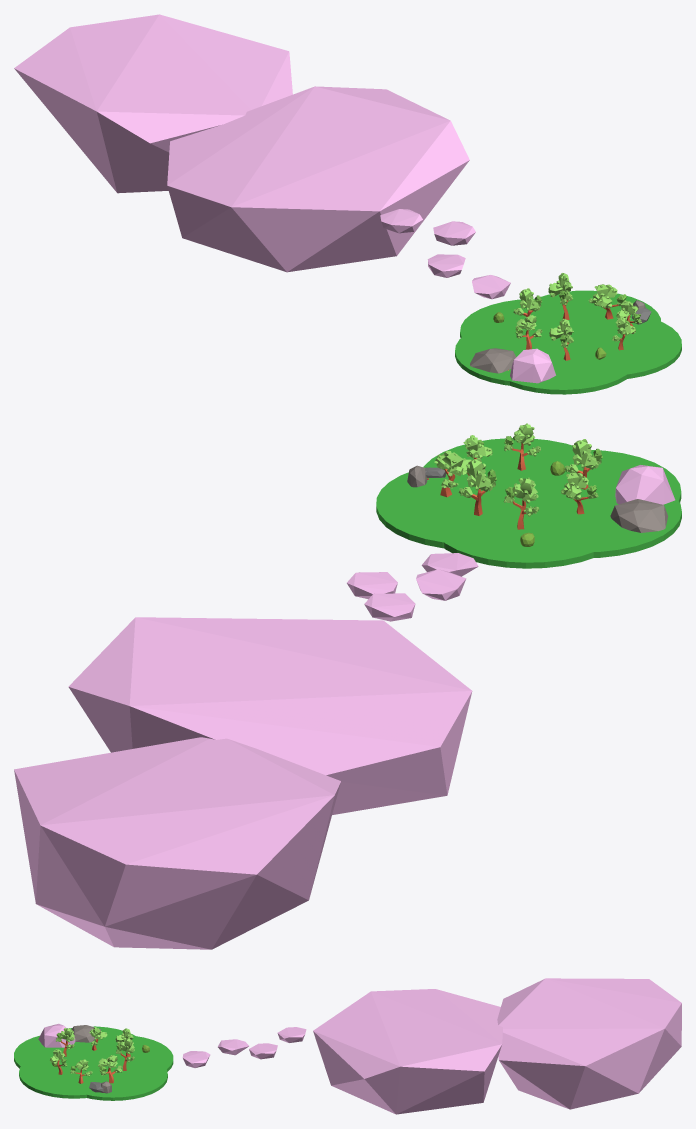
3 renders of one model, top to bottom at view 1: azimuth 30°, elevation 25°; view 2: azimuth 150°, elevation 25°; view 3: azimuth 270°, elevation 25°, orthographic. The views are drawn at different scales.
Visible parts, largest first — view 1: Rock4.008, Rock4.009, Cylindre.001, Cylindre, Cylindre.005, Cylindre.003, Cylindre.004, Cylindre.002, Rock4.003, Rock4.002, Rock4.004, Rock4.007 (+4 smaller); view 2: Rock4.009, Rock4.008, Cylindre, Cylindre.004, Cylindre.003, Cylindre.005, Cylindre.002, Cylindre.001, Rock4.003, Rock4.002, Rock4.007, Rock4.006 (+6 smaller); view 3: Rock4.009, Rock4.008, Cylindre.004, Cylindre.003, Cylindre.005, Cylindre.002, Cylindre, Cylindre.001, Rock4.003, Rock4.005, Rock4.004, Tree.002 (+7 smaller).
Part boxes in pixels (x1,y1,x2,y2): Rock4.008: (167, 86, 469, 272); Rock4.009: (14, 14, 292, 193); Cylindre.001: (490, 326, 637, 394); Cylindre: (502, 304, 649, 368); Cylindre.005: (532, 311, 681, 378); Cylindre.003: (460, 298, 605, 361); Cylindre.004: (513, 290, 661, 352); Cylindre.002: (455, 318, 597, 385); Rock4.003: (510, 348, 555, 383); Rock4.002: (470, 348, 516, 373); Rock4.004: (433, 221, 475, 245); Rock4.007: (380, 209, 422, 233); Rock4.009: (14, 737, 340, 949); Rock4.008: (68, 617, 472, 814); Cylindre: (420, 458, 616, 540); Cylindre.004: (376, 461, 571, 548); Cylindre.003: (430, 479, 624, 568); Cylindre.005: (421, 438, 614, 520); Cylindre.002: (489, 469, 681, 557); Cylindre.001: (485, 450, 681, 532); Rock4.003: (615, 465, 675, 504); Rock4.002: (610, 499, 668, 532); Rock4.007: (364, 593, 415, 621); Rock4.006: (416, 569, 466, 600); Rock4.009: (497, 978, 681, 1109); Rock4.008: (313, 989, 502, 1114); Cylindre.004: (58, 1051, 167, 1100); Cylindre.003: (76, 1035, 173, 1081); Cylindre.005: (19, 1049, 120, 1098); Cylindre.002: (36, 1026, 144, 1072); Cylindre: (41, 1043, 148, 1089); Cylindre.001: (14, 1035, 122, 1077); Rock4.003: (38, 1023, 75, 1047); Rock4.005: (182, 1051, 210, 1067); Rock4.004: (249, 1043, 277, 1059); Tree.002: (98, 1055, 122, 1083).
Size of the model in its own units: 122 by 49.29 by 364.
